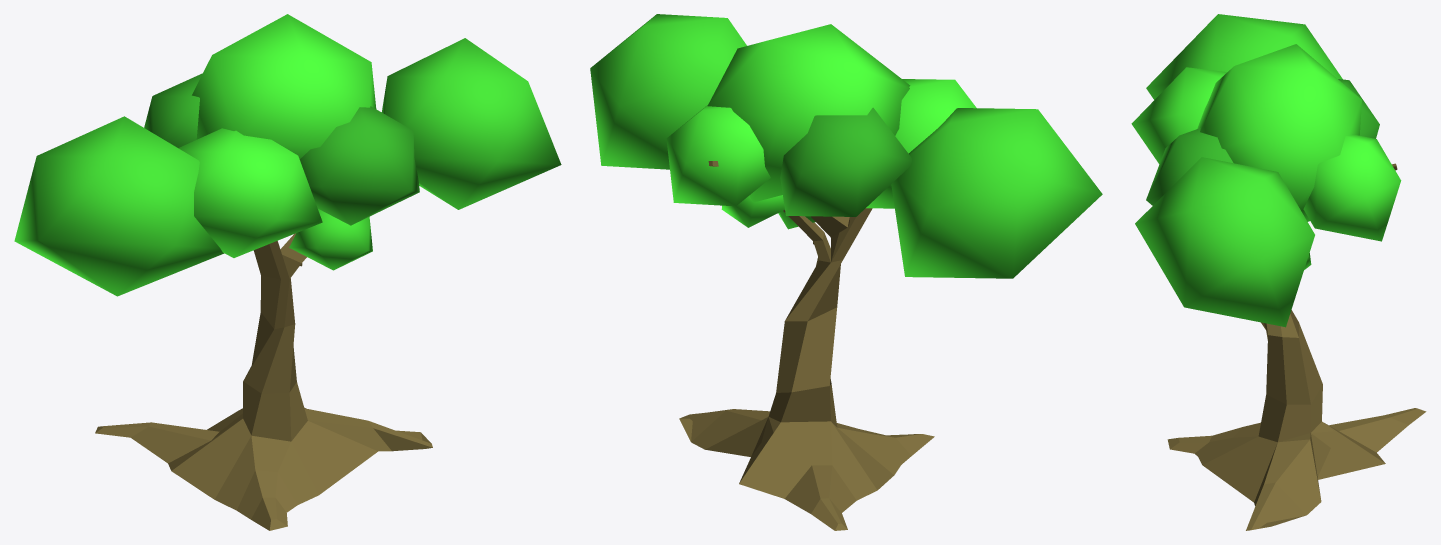
Rendered from tree.glb.
The picture shows the model from 3 angles, left to right: view 1: azimuth 30°, elevation 25°; view 2: azimuth 150°, elevation 25°; view 3: azimuth 270°, elevation 25°; orthographic projection. The views are drawn at different scales.
Parts seen in each view (by area): view 1: Cube.003, Icosphere.004, Icosphere.007, Icosphere.011, Icosphere.003, Icosphere.010, Icosphere.009, Icosphere.002; view 2: Icosphere.004, Cube.003, Icosphere.011, Icosphere.007, Icosphere.002, Icosphere.008, Icosphere.003, Icosphere.006; view 3: Icosphere.007, Cube.003, Icosphere.011, Icosphere.008, Icosphere.004, Icosphere.003, Icosphere.010, Icosphere.002.
Part boxes in pixels (bbox=[...]): Cube.003: bbox=[95, 233, 432, 530]; Icosphere.004: bbox=[14, 116, 224, 296]; Icosphere.007: bbox=[381, 38, 561, 209]; Icosphere.011: bbox=[192, 14, 376, 158]; Icosphere.003: bbox=[178, 128, 322, 257]; Icosphere.010: bbox=[299, 106, 419, 225]; Icosphere.009: bbox=[289, 209, 372, 270]; Icosphere.002: bbox=[144, 73, 202, 147]; Icosphere.004: bbox=[891, 108, 1102, 278]; Cube.003: bbox=[679, 161, 934, 530]; Icosphere.011: bbox=[707, 24, 910, 202]; Icosphere.007: bbox=[590, 14, 746, 169]; Icosphere.002: bbox=[780, 107, 911, 216]; Icosphere.008: bbox=[666, 105, 770, 206]; Icosphere.003: bbox=[866, 79, 976, 208]; Icosphere.006: bbox=[721, 195, 784, 227]; Icosphere.007: bbox=[1135, 157, 1314, 327]; Cube.003: bbox=[1167, 163, 1426, 530]; Icosphere.011: bbox=[1197, 44, 1361, 221]; Icosphere.008: bbox=[1303, 134, 1401, 241]; Icosphere.004: bbox=[1146, 14, 1342, 99]; Icosphere.003: bbox=[1131, 67, 1227, 164]; Icosphere.010: bbox=[1146, 128, 1233, 205]; Icosphere.002: bbox=[1338, 79, 1379, 138].
Size of the model in its own units: 38.61 by 32.41 by 20.76.
